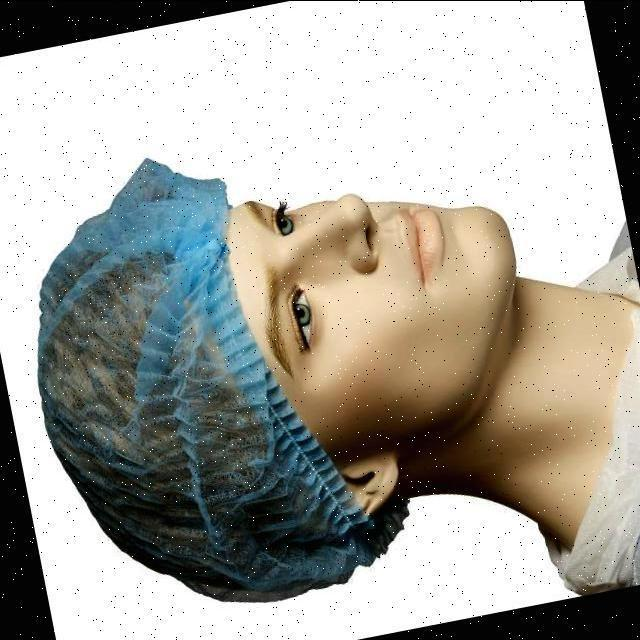gloves: (50, 156, 236, 557)
no_hairnet: (306, 195, 491, 349)
